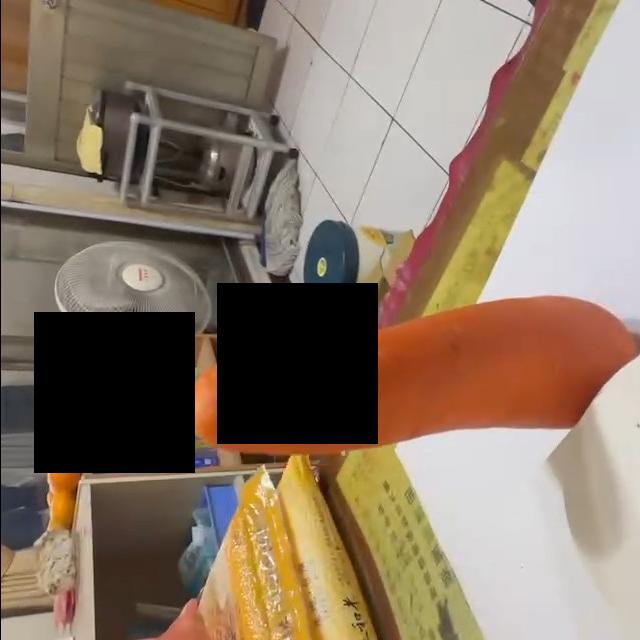carrot: (180, 294, 638, 457)
